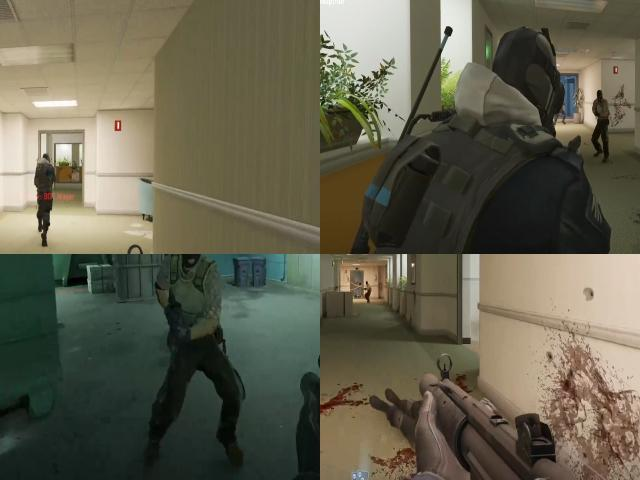CT: (36, 153, 57, 209)
CT-Head: (367, 88, 591, 254), (450, 25, 569, 146), (39, 152, 52, 167)
T: (592, 84, 610, 124), (363, 277, 371, 298)
T-Head: (154, 254, 229, 361), (166, 254, 214, 269), (593, 88, 605, 106)
